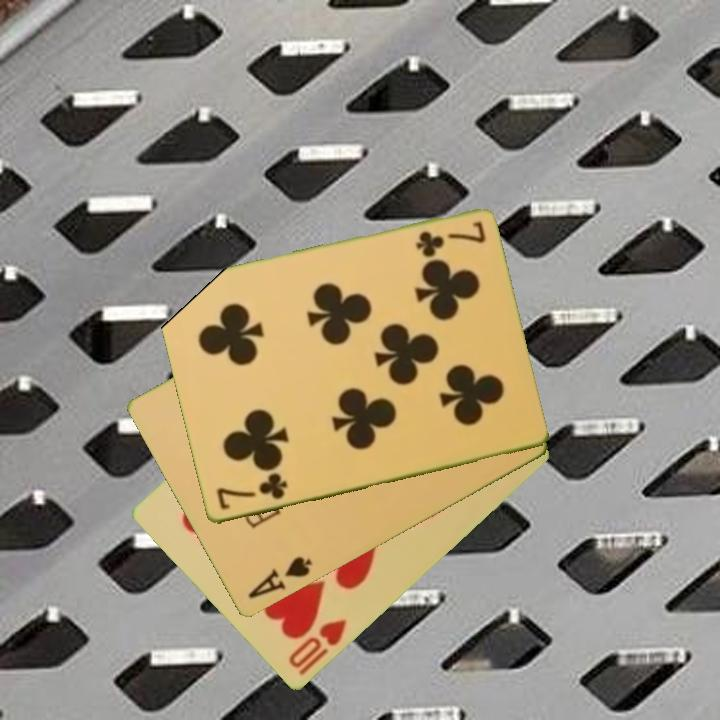10h: (285, 616, 350, 672)
7c: (213, 470, 290, 513), (411, 218, 488, 259)
As: (244, 553, 315, 603)
